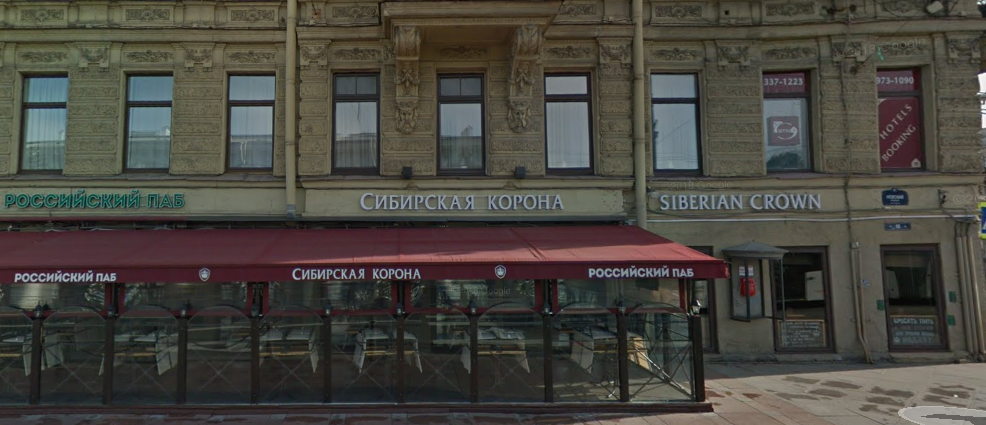signboard: (354, 185, 572, 217), (1, 189, 200, 208), (658, 193, 819, 210)
window: (758, 66, 819, 178), (13, 74, 70, 178), (330, 69, 382, 179), (544, 66, 594, 177), (877, 65, 928, 172), (652, 70, 703, 176), (435, 73, 484, 180), (123, 73, 174, 173), (223, 73, 273, 169)
